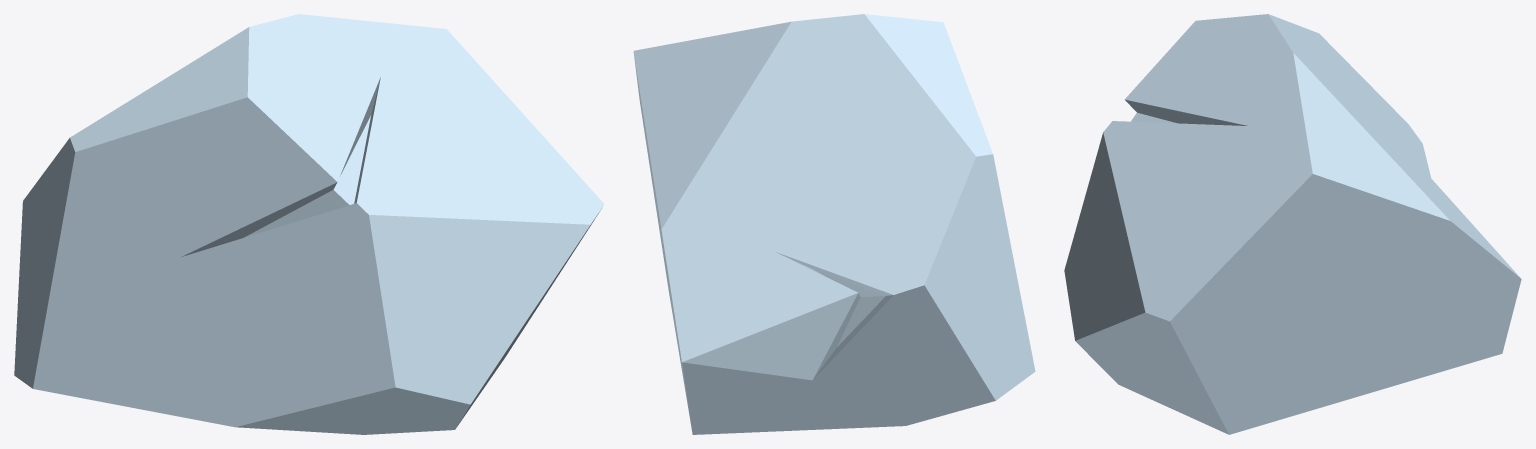
The model's file is Rock 6.fbx.
The picture shows the model from 3 angles, left to right: view 1: azimuth 30°, elevation 25°; view 2: azimuth 150°, elevation 25°; view 3: azimuth 270°, elevation 25°; orthographic projection. The views are drawn at different scales.
Parts seen in each view (by area): view 1: Rock 6; view 2: Rock 6; view 3: Rock 6.
Boxes of the visible parts, left/top/right/bottom form: Rock 6: left=14, top=14, right=604, bottom=434; Rock 6: left=633, top=14, right=1035, bottom=434; Rock 6: left=1064, top=14, right=1521, bottom=434.
Bounding box in the file's own units: 169 × 120 × 154.
